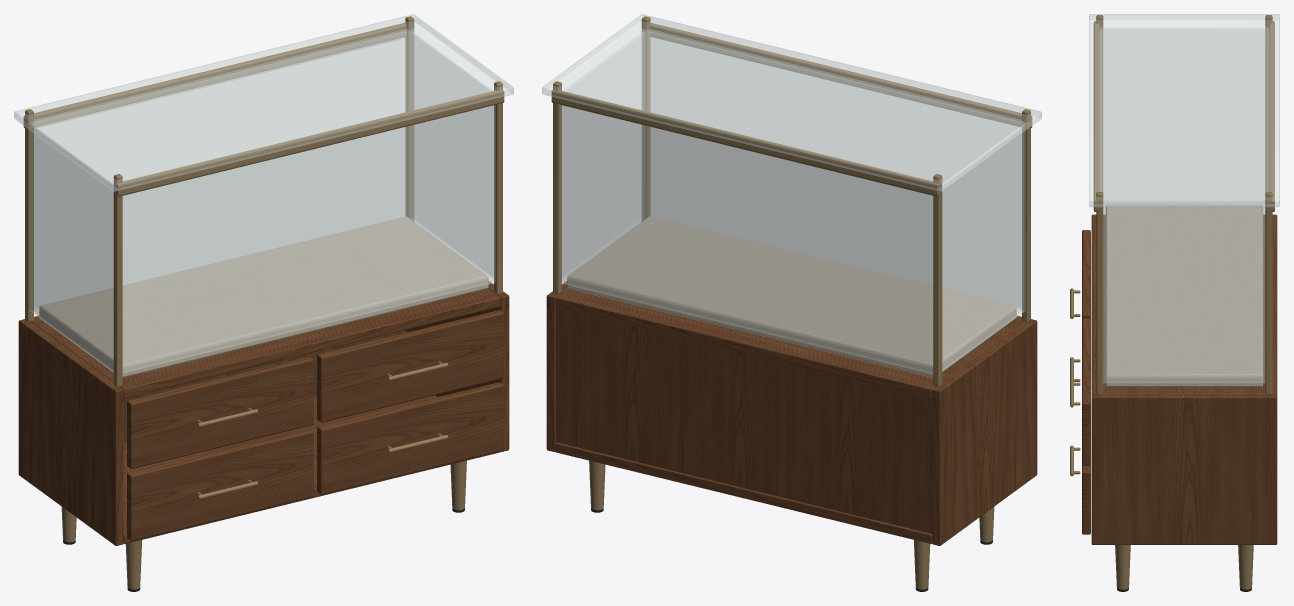
Rendered from gem-counter.glb.
3 views of the same model, side by side, from view 1: azimuth 30°, elevation 25°; view 2: azimuth 150°, elevation 25°; view 3: azimuth 270°, elevation 25° (orthographic). The views are drawn at different scales.
Visible parts, largest first — view 1: GEM counter | Walnut | satin open-pore finish, Glazing | single non-overlapping front pane, Glazing | rear glass, Glazing | polished glass canopy, GEM counter | Flax | woven upholstery, GEM counter | Bronze | satin hardware, Glazing | side glass, Glazing | side glass.001; view 2: GEM counter | Walnut | satin open-pore finish, Glazing | rear glass, Glazing | single non-overlapping front pane, Glazing | polished glass canopy, GEM counter | Flax | woven upholstery, GEM counter | Bronze | satin hardware, Glazing | side glass, Glazing | side glass.001; view 3: Glazing | polished glass canopy, GEM counter | Walnut | satin open-pore finish, Glazing | side glass.001, GEM counter | Flax | woven upholstery, Glazing | side glass, GEM counter | Bronze | satin hardware.
Boxes of the visible parts, x1,y1,x2,y2 form: GEM counter | Walnut | satin open-pore finish: [18, 281, 509, 545]; Glazing | single non-overlapping front pane: [122, 105, 495, 373]; Glazing | rear glass: [34, 37, 405, 308]; Glazing | polished glass canopy: [14, 14, 513, 191]; GEM counter | Flax | woven upholstery: [39, 216, 488, 377]; GEM counter | Bronze | satin hardware: [23, 16, 504, 589]; Glazing | side glass: [30, 125, 113, 371]; Glazing | side glass.001: [411, 32, 493, 278]; GEM counter | Walnut | satin open-pore finish: [546, 281, 1037, 545]; Glazing | rear glass: [560, 105, 933, 373]; Glazing | single non-overlapping front pane: [649, 32, 1021, 308]; Glazing | polished glass canopy: [542, 14, 1041, 191]; GEM counter | Flax | woven upholstery: [567, 216, 1016, 377]; GEM counter | Bronze | satin hardware: [551, 16, 1032, 589]; Glazing | side glass: [942, 125, 1025, 371]; Glazing | side glass.001: [562, 32, 644, 278]; Glazing | polished glass canopy: [1089, 14, 1279, 207]; GEM counter | Walnut | satin open-pore finish: [1082, 214, 1277, 544]; Glazing | side glass.001: [1103, 205, 1265, 383]; GEM counter | Flax | woven upholstery: [1105, 204, 1263, 386]; Glazing | side glass: [1103, 28, 1264, 204]; GEM counter | Bronze | satin hardware: [1070, 15, 1274, 589].
Size of the model in its own units: 1.38 by 1.41 by 0.655.
6 materials, 2 textured.
